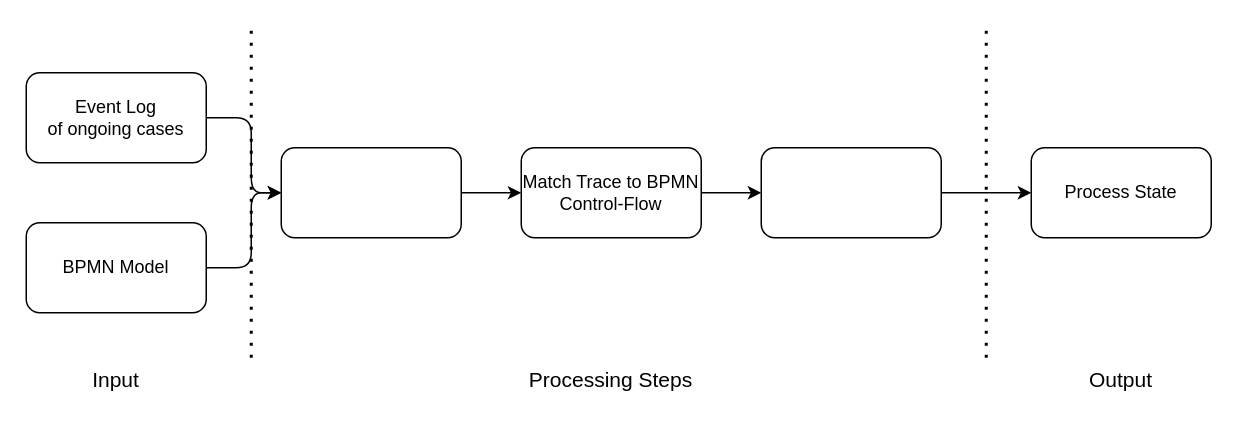
Image size: 1238x428. Some labels were removed from this diagram. Here are the shapes that lost their labels. From the top down, the centre of each, then its label:
point (370, 192): Sort and Build Case Traces
point (850, 192): Refine Enablement Times, Start Times, and Resources
